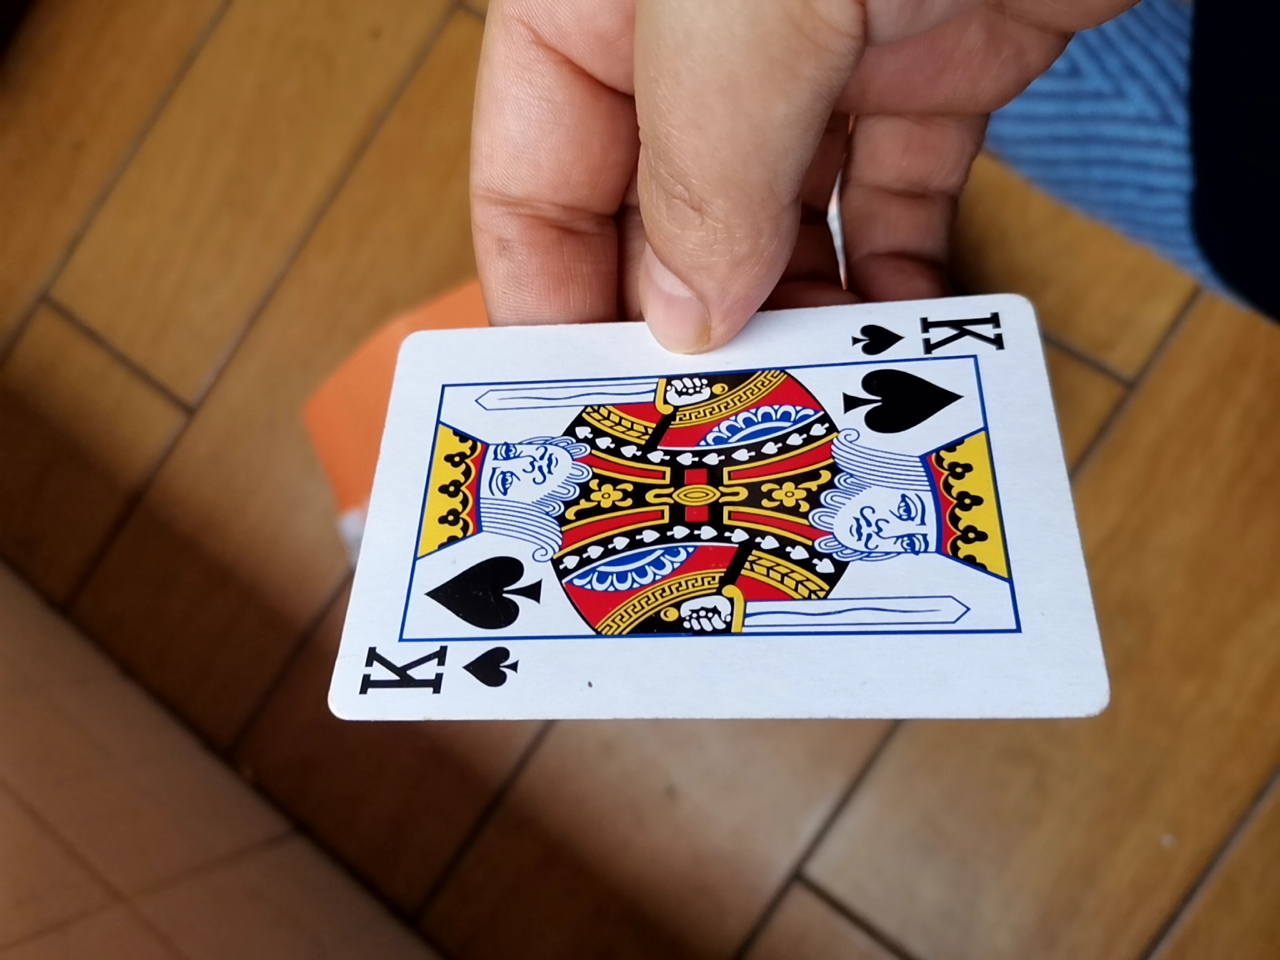ht k: (313, 291, 1103, 742)
